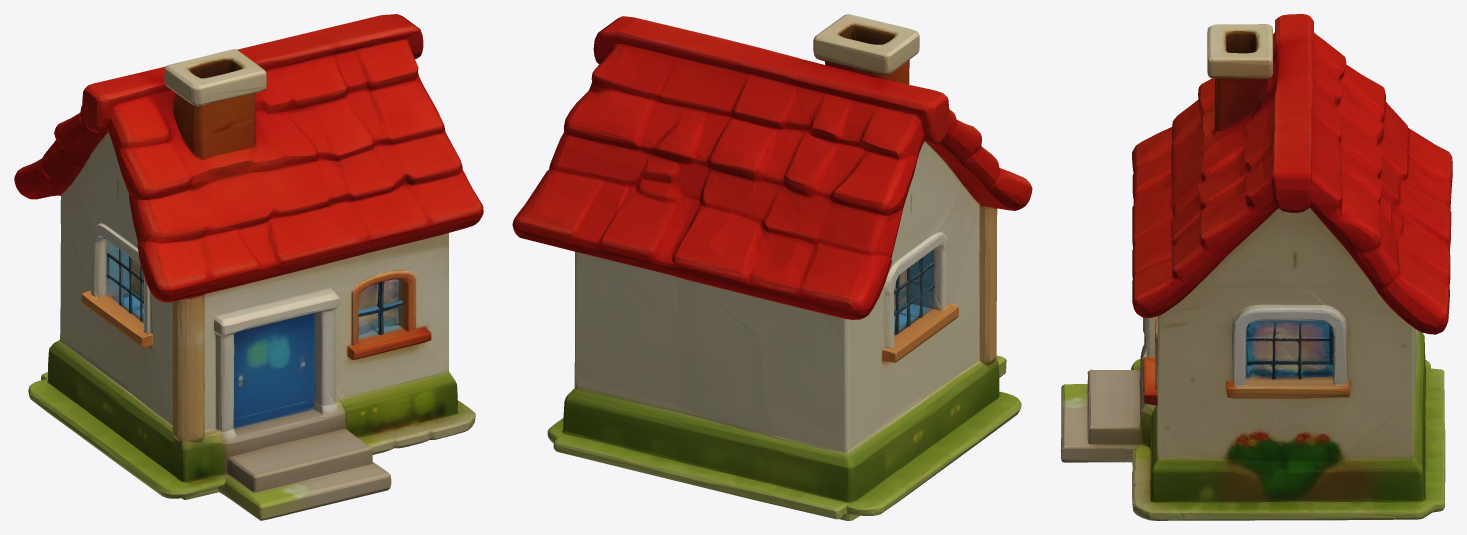
The model's file is red_small_house.glb.
The picture shows the model from 3 angles, left to right: view 1: azimuth 30°, elevation 25°; view 2: azimuth 150°, elevation 25°; view 3: azimuth 270°, elevation 25°; orthographic projection. The views are drawn at different scales.
Parts seen in each view (by area): view 1: geometry_0; view 2: geometry_0; view 3: geometry_0.
Boxes of the visible parts, box(x1,y1,x2,y2) form: geometry_0: box(14, 14, 483, 520); geometry_0: box(512, 14, 1032, 520); geometry_0: box(1061, 14, 1452, 520).
Bounding box in the file's own units: 0.9451 × 0.9905 × 0.9207.
Materials: 1 (1 with a texture image).
